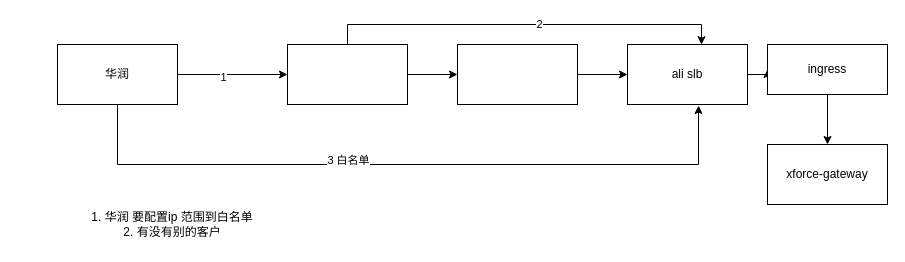
This 905x262 diagram has some shape labels left out. Here are the shapes that lost their labels. From the top down, the centre of each, then its label:
At pixel 347 74: "ali dns".
At pixel 517 74: "ali waf".
